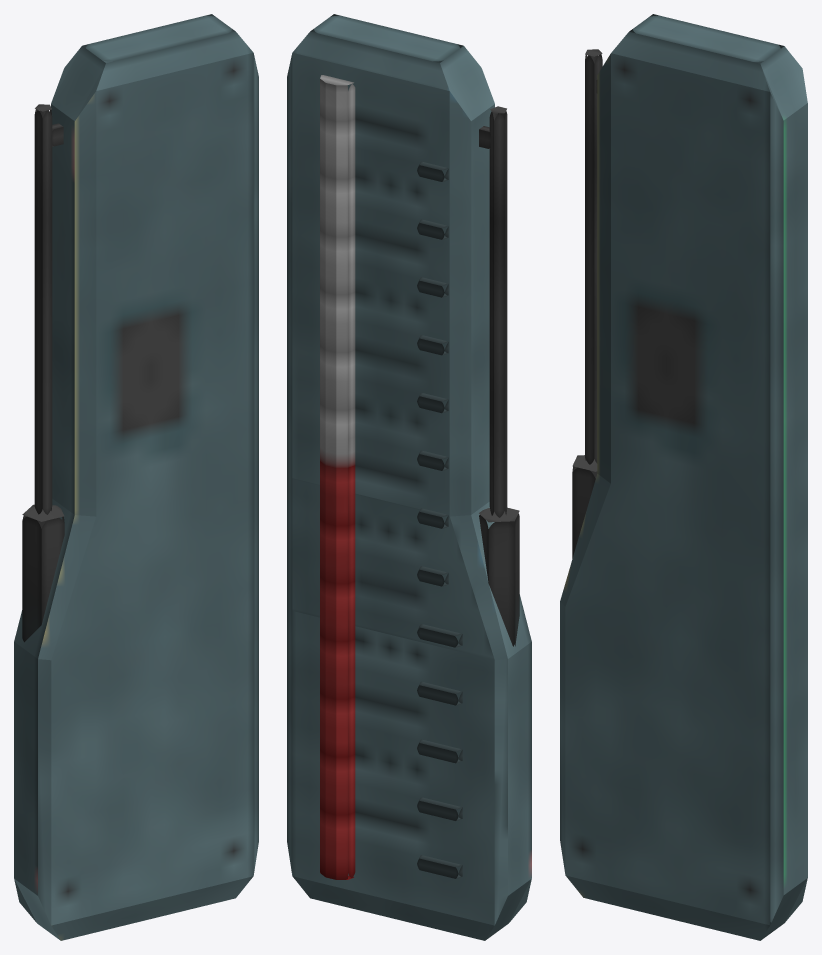
Rendered from thermometer_merc_2.obj.
The picture shows the model from 3 angles, left to right: view 1: azimuth 30°, elevation 25°; view 2: azimuth 150°, elevation 25°; view 3: azimuth 330°, elevation 25°; orthographic projection.
Visible parts, largest first — view 1: beveled_cuboid; view 2: beveled_cuboid; view 3: beveled_cuboid.
Part boxes in pixels (bbox=[...]): beveled_cuboid: bbox=[14, 14, 258, 940]; beveled_cuboid: bbox=[287, 14, 531, 940]; beveled_cuboid: bbox=[560, 14, 807, 940].
Bounding box in the file's own units: 0.25 × 0.9375 × 0.0771.
